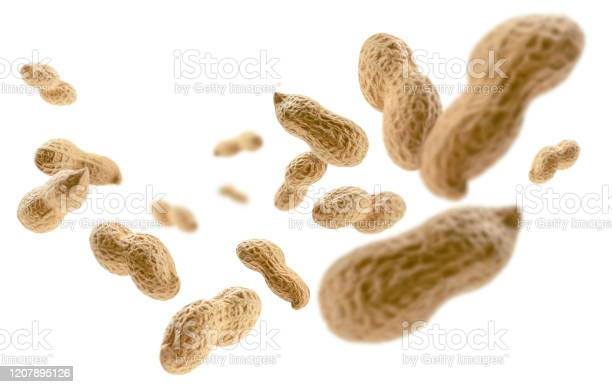kacang2: (158, 285, 263, 371), (81, 220, 186, 300), (270, 91, 373, 166), (237, 234, 309, 309), (312, 185, 409, 232), (525, 132, 586, 186), (13, 61, 80, 105)
